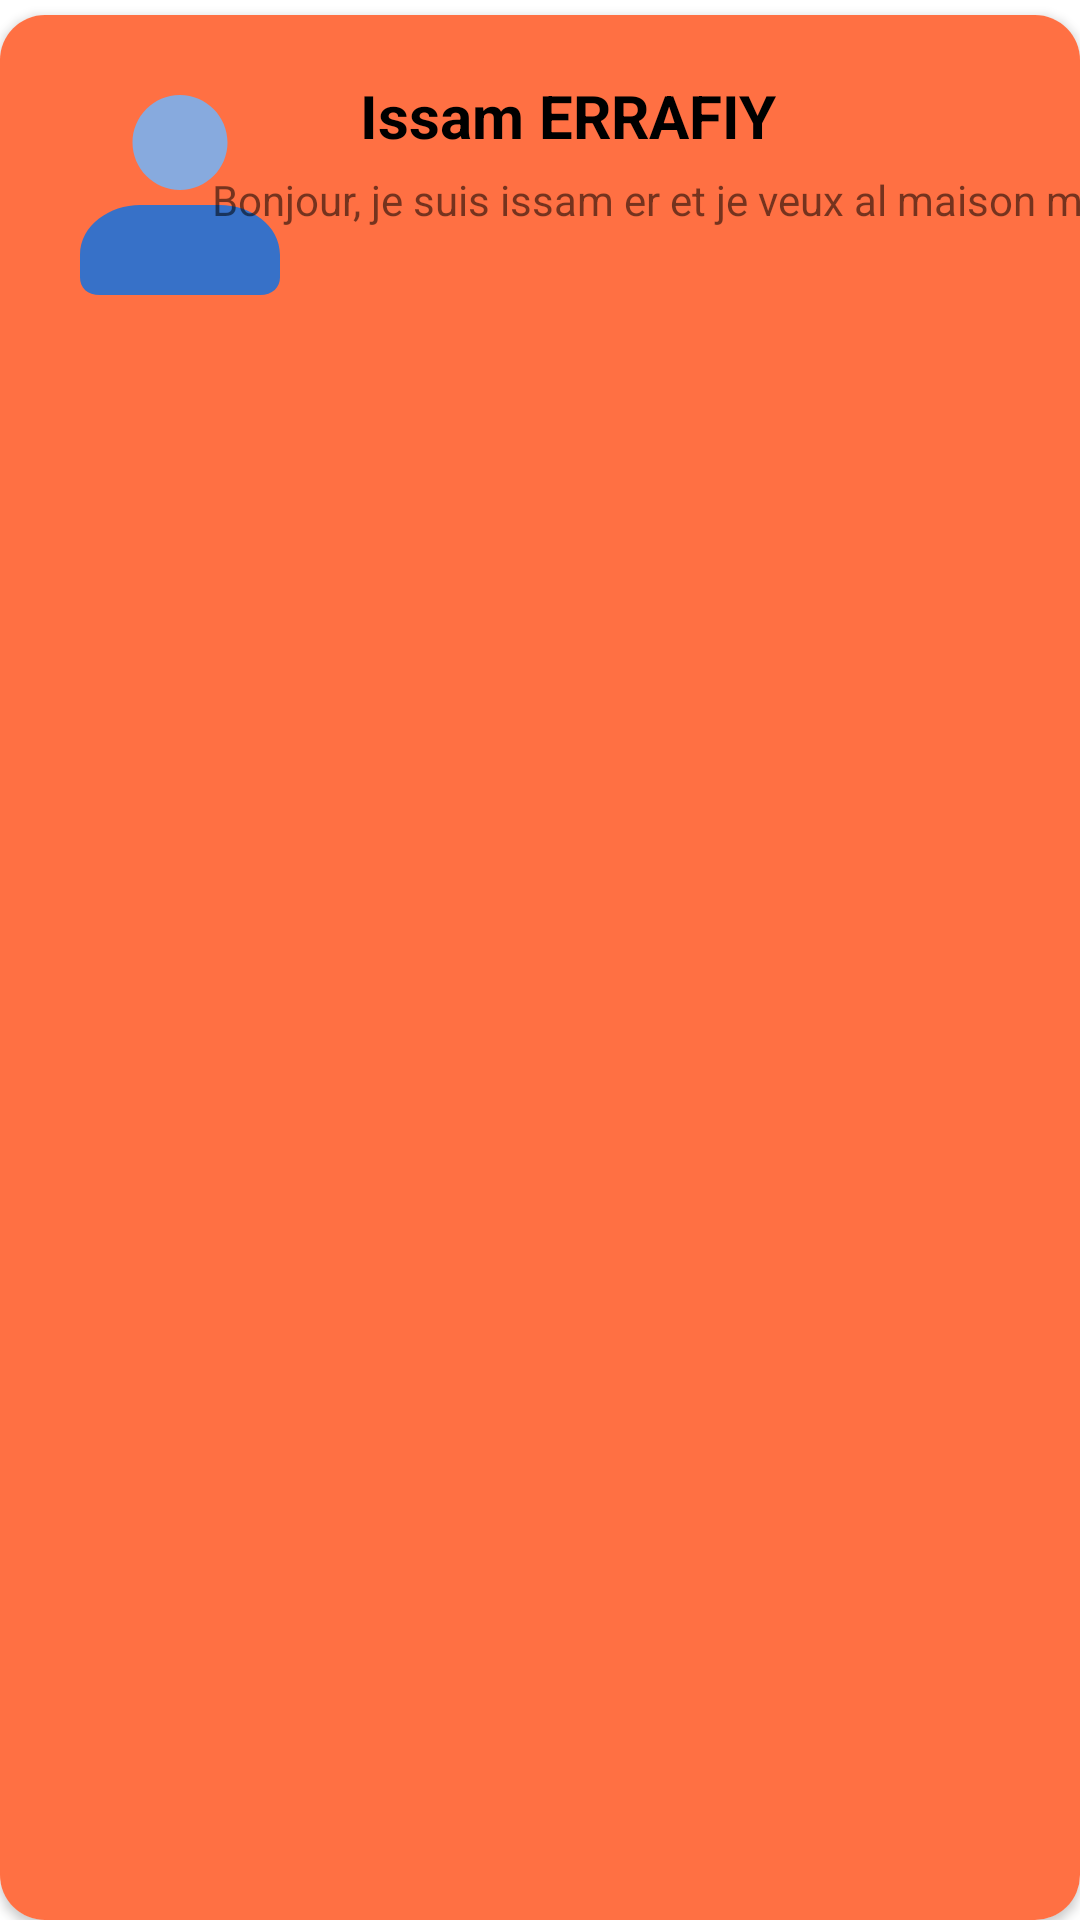

Named icons in this screenshot (1080*1920) and their bounding boxes, (x1, y1, x2, y2):
profile: (80, 95, 292, 295)
